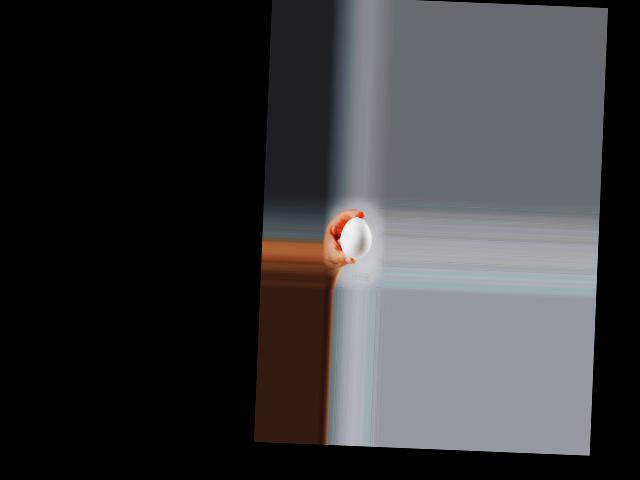egg: (339, 216, 372, 258)
